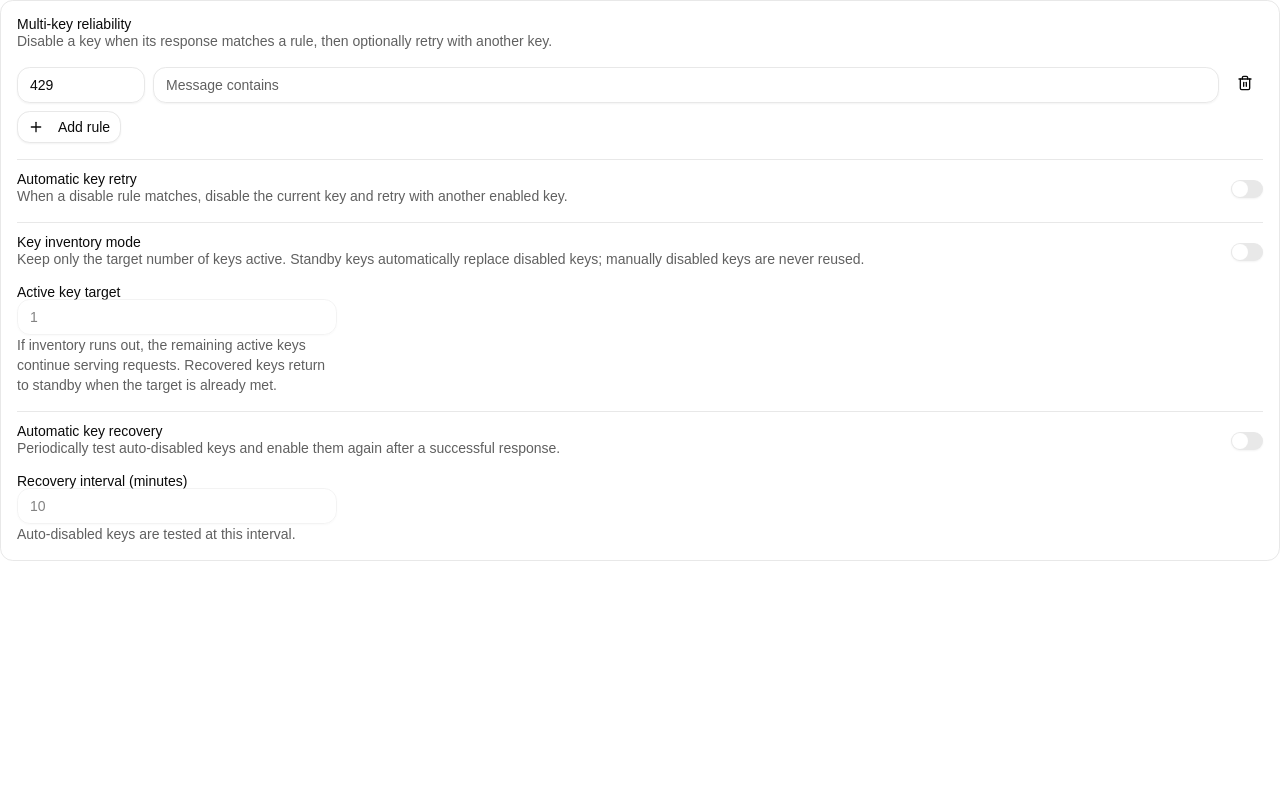
it: multi-key reliability › keeps focus while typing status and message, including duplicate rules
The image size is (1280, 800).
Click the button "Add rule": (69, 127) [17, 111, 121, 143]
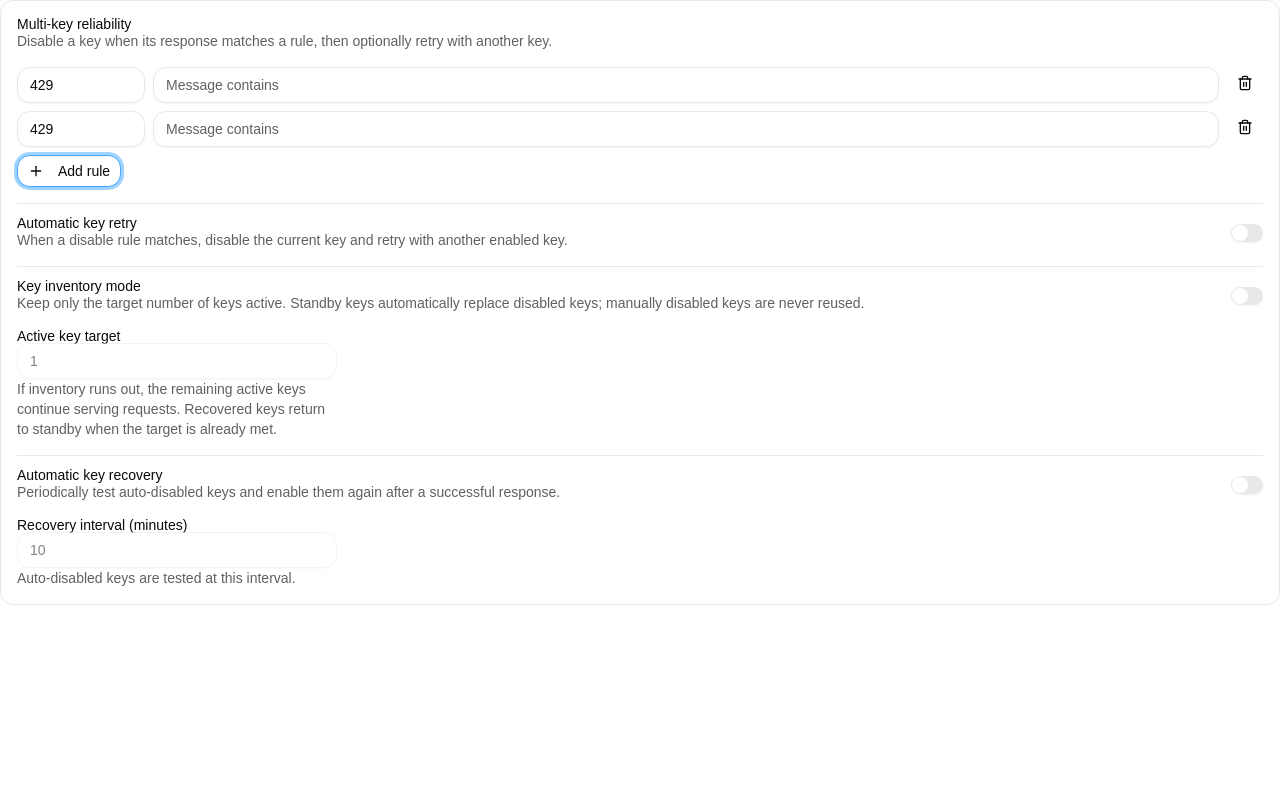
Replace the text in the 1st number field named "Status code" with "503": (81, 85) [17, 67, 145, 103]
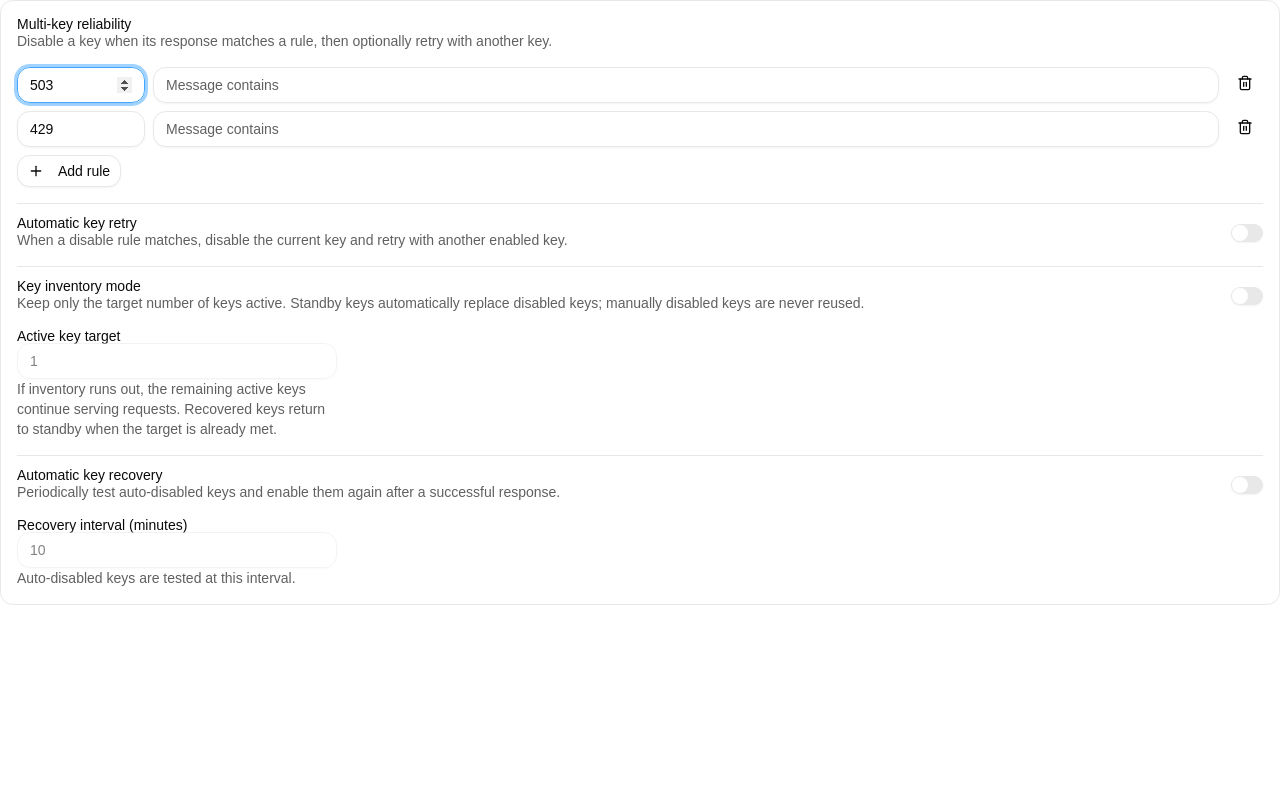
In the 2nd field labelled "Message contains": (686, 129) [153, 111, 1219, 147], type "quota exhausted"
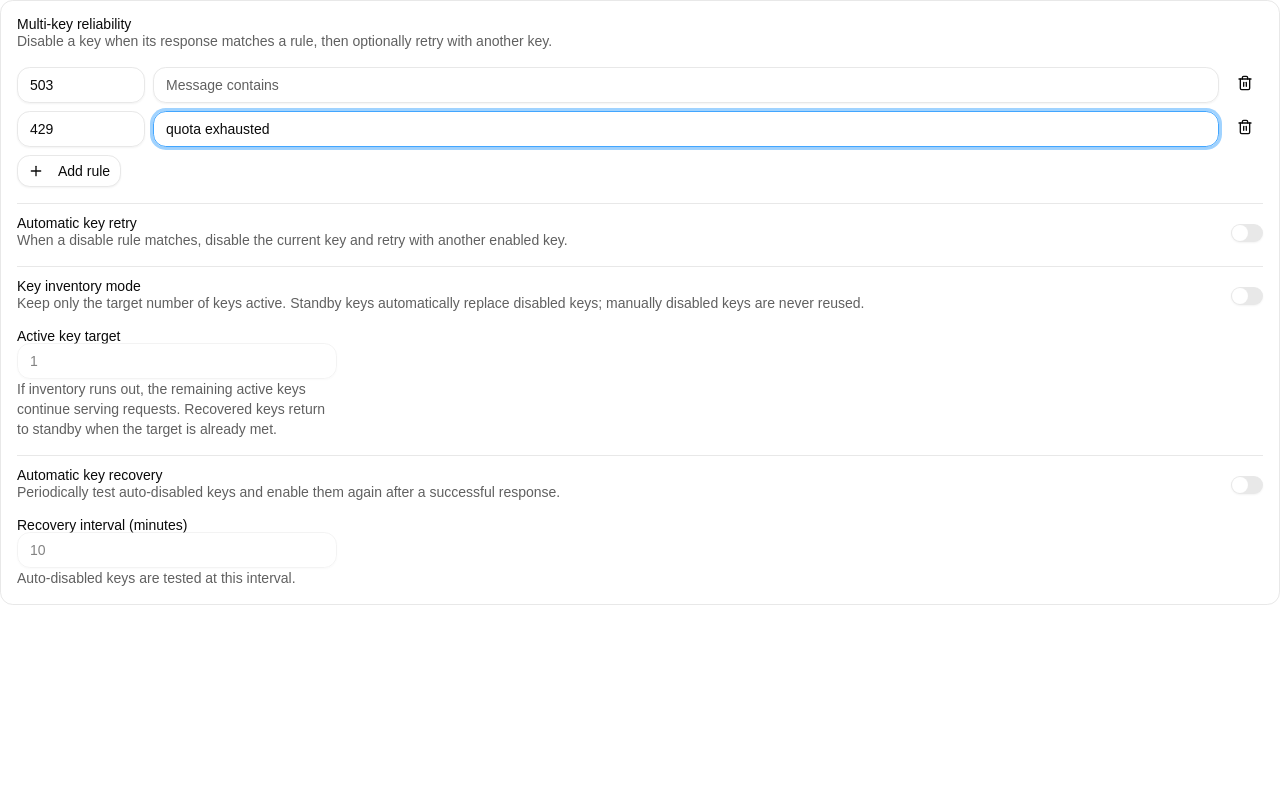
Click the 1st button named "Delete": (1245, 83) [1227, 67, 1263, 99]
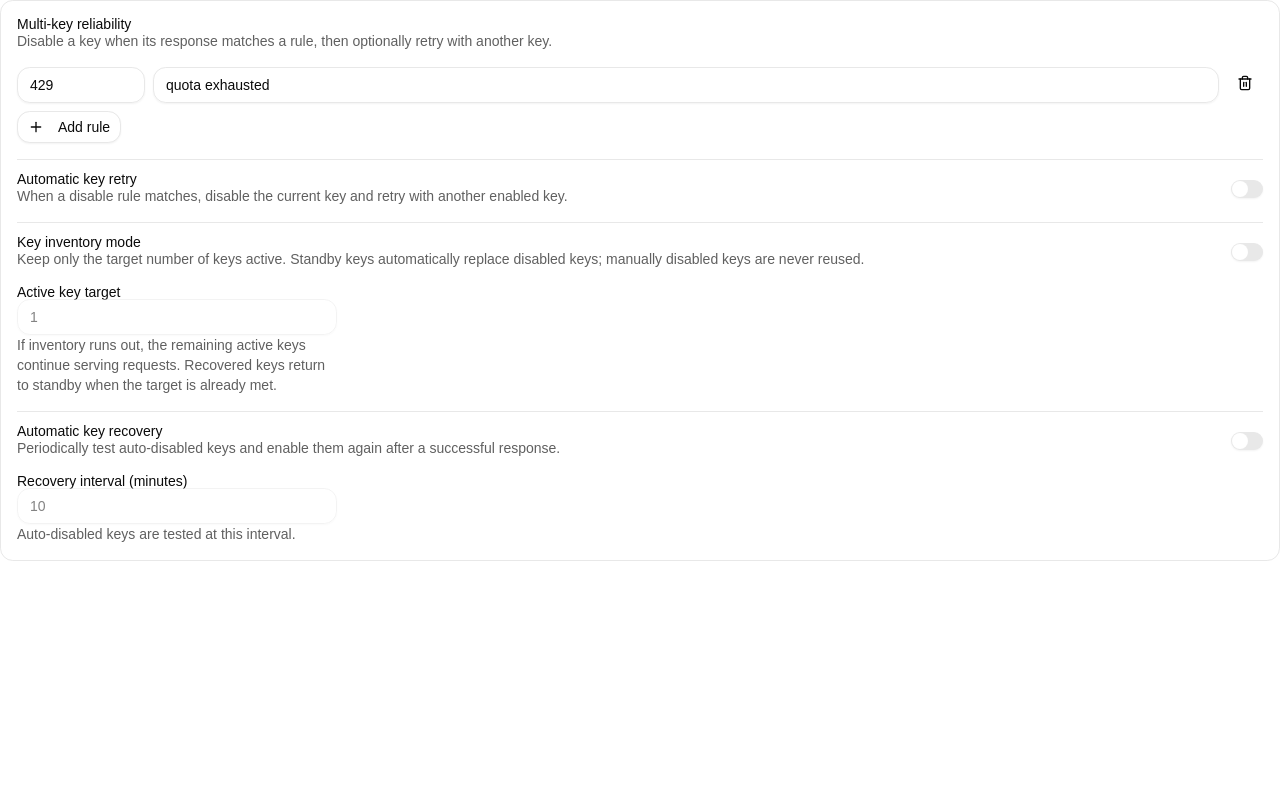
In the field named "Message contains": (686, 85) [153, 67, 1219, 103], type " today"
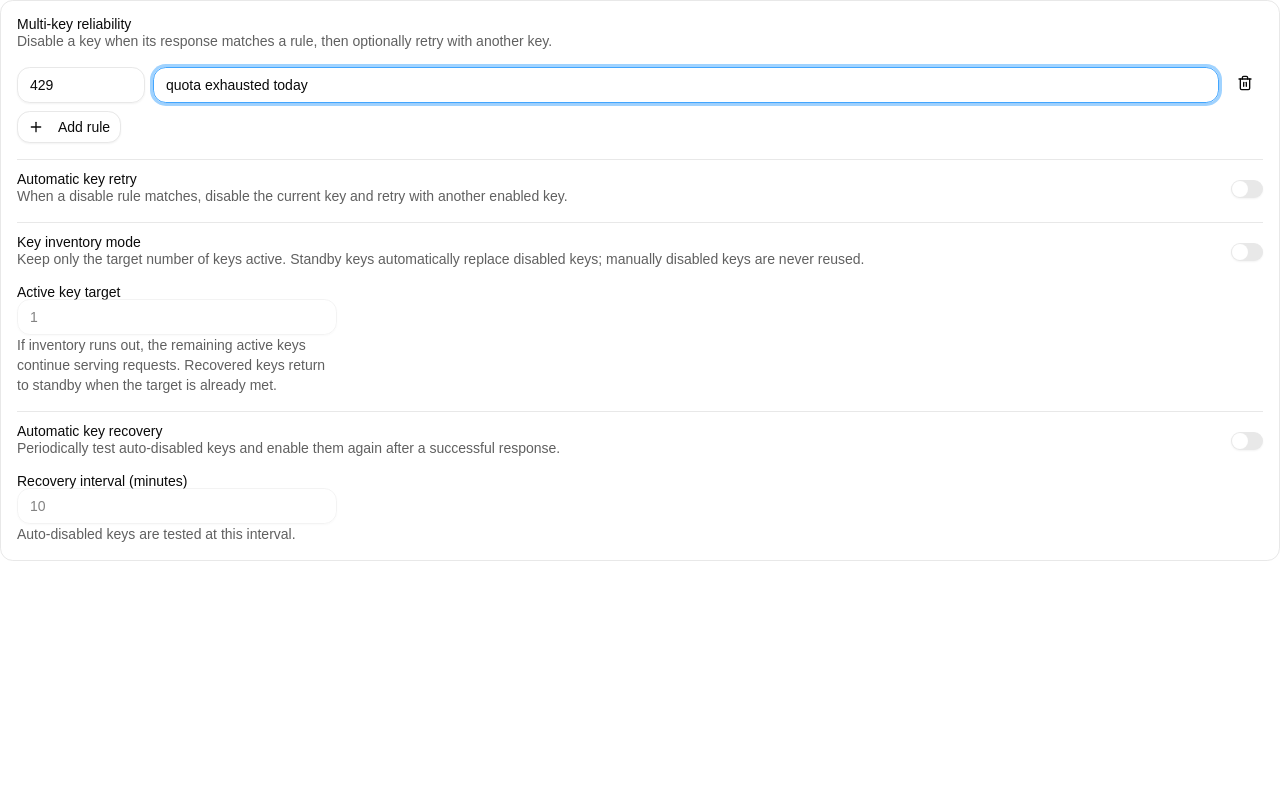
Now the field named "Message contains" holds "quota exhausted today", box [153, 67, 1219, 103]
